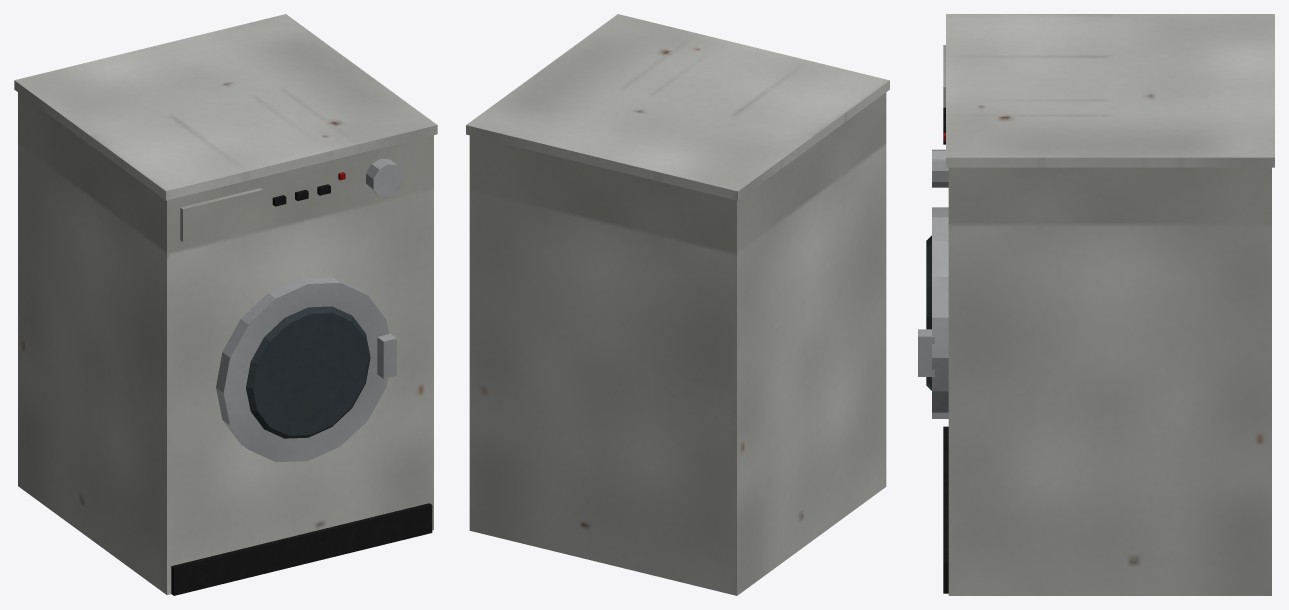
Rendered from Washing_Machine.fbx.
The picture shows the model from 3 angles, left to right: view 1: azimuth 30°, elevation 25°; view 2: azimuth 150°, elevation 25°; view 3: azimuth 270°, elevation 25°; orthographic projection. The views are drawn at different scales.
Visible parts, largest first — view 1: стиральная машинка; view 2: стиральная машинка; view 3: стиральная машинка.
Boxes of the visible parts, x1,y1,x2,y2 form: стиральная машинка: (14,14,437,595); стиральная машинка: (466,14,889,595); стиральная машинка: (918,14,1274,595).
Bounding box in the file's own units: 0.61 × 0.87 × 0.64.
1 material, 1 textured.
